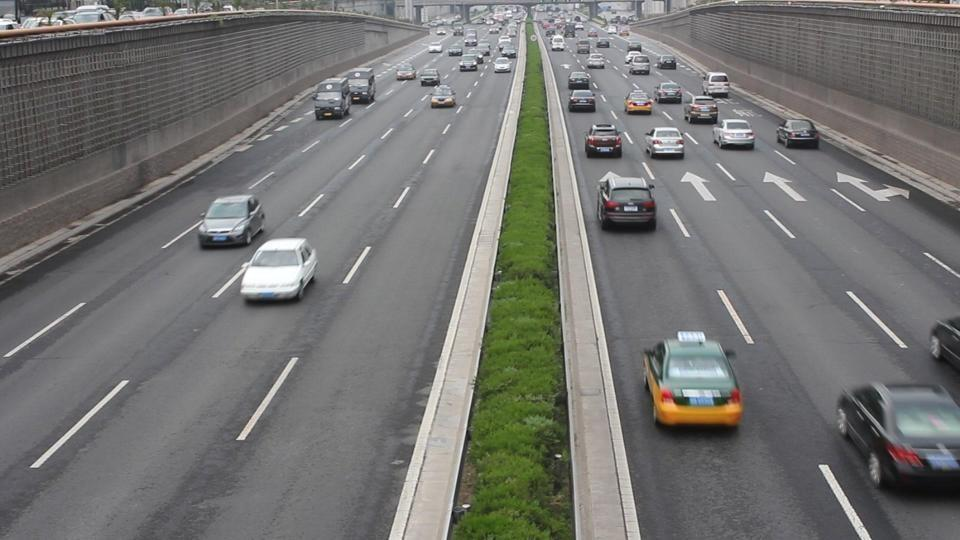car: (833, 381, 960, 493), (641, 331, 745, 431), (239, 237, 319, 304), (197, 194, 266, 249), (596, 171, 658, 230), (928, 315, 960, 371), (313, 78, 352, 121), (712, 117, 756, 151), (643, 126, 686, 159), (584, 123, 624, 158), (775, 118, 820, 149), (343, 67, 376, 105), (685, 96, 719, 125), (624, 87, 654, 115), (702, 72, 730, 99), (653, 81, 683, 104), (430, 86, 458, 109), (568, 89, 596, 111), (625, 53, 652, 75), (568, 71, 592, 92), (418, 69, 441, 88), (394, 63, 416, 82), (458, 55, 480, 72)
